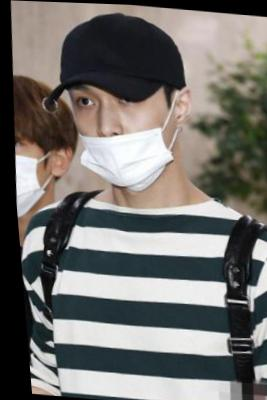OK: (9, 124, 49, 225)
WRONG: (63, 70, 172, 194)
